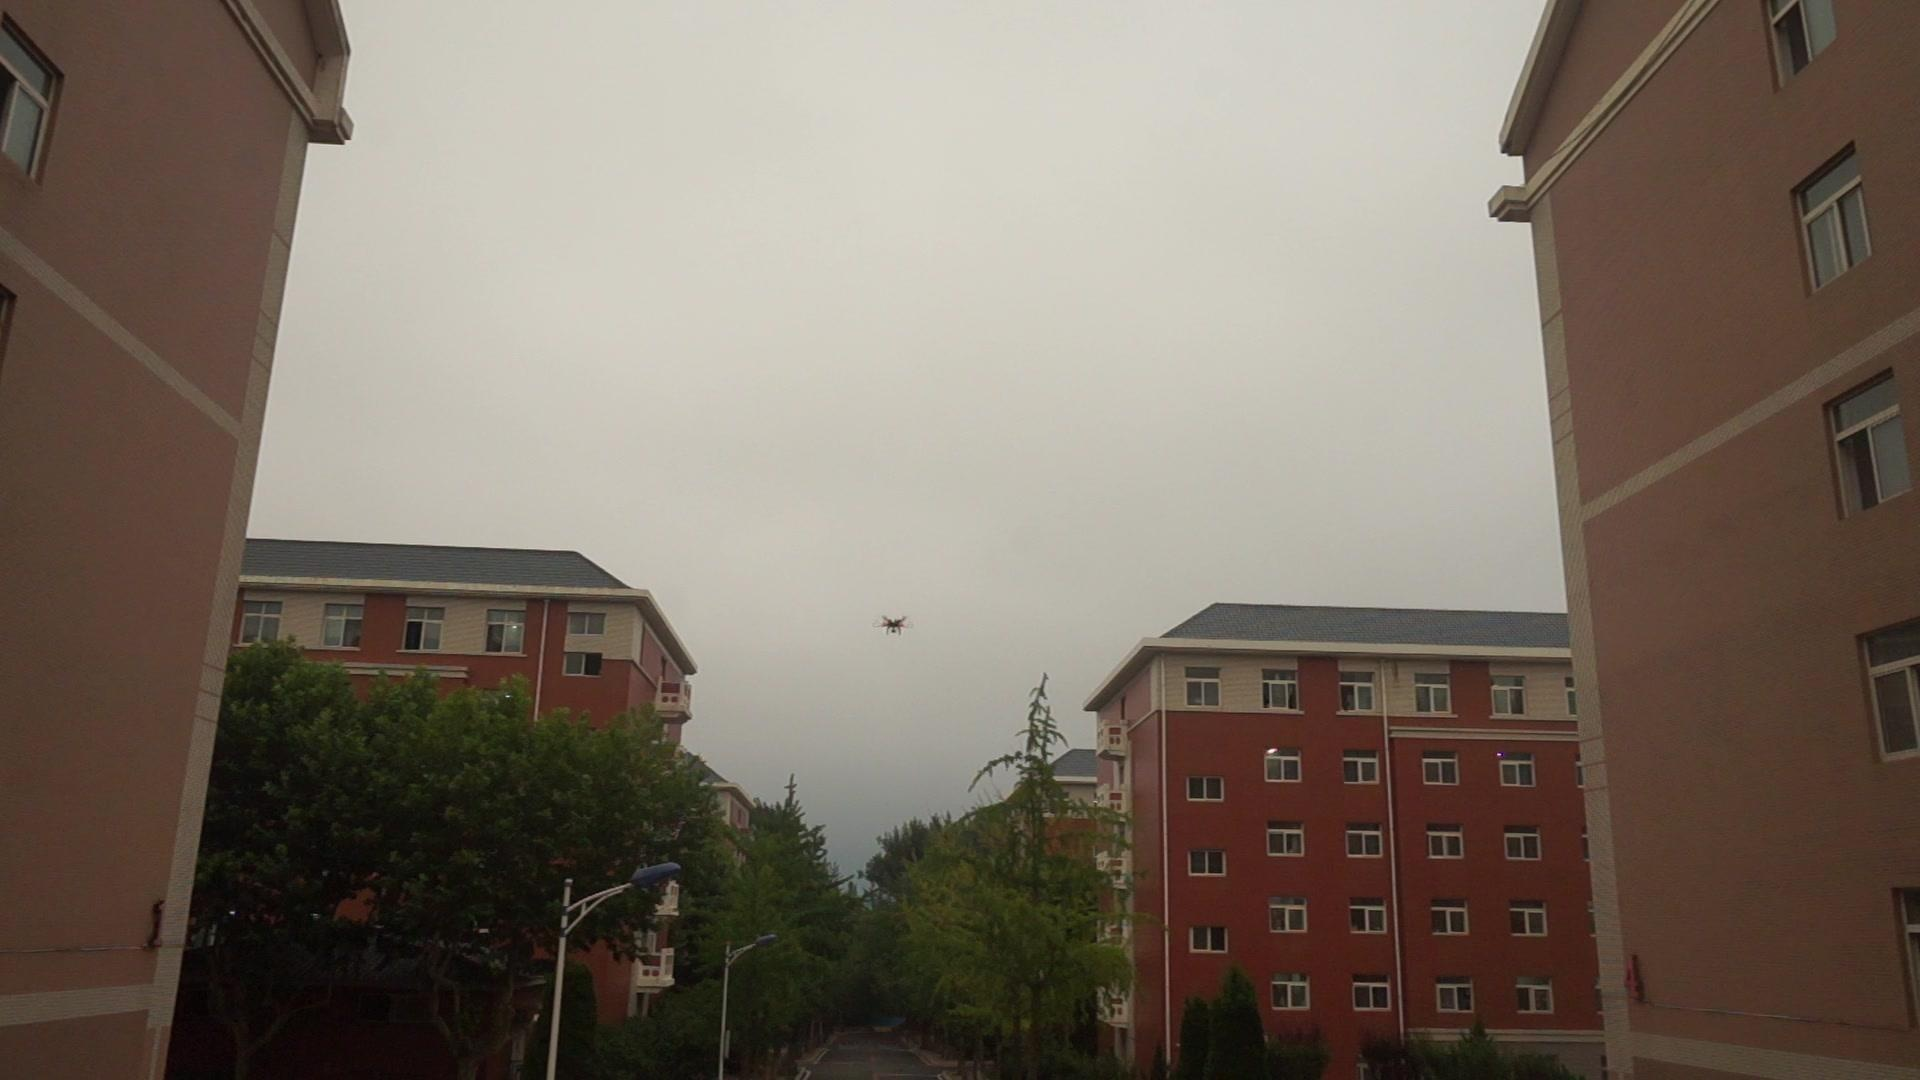UAV: (873, 616, 915, 637)
